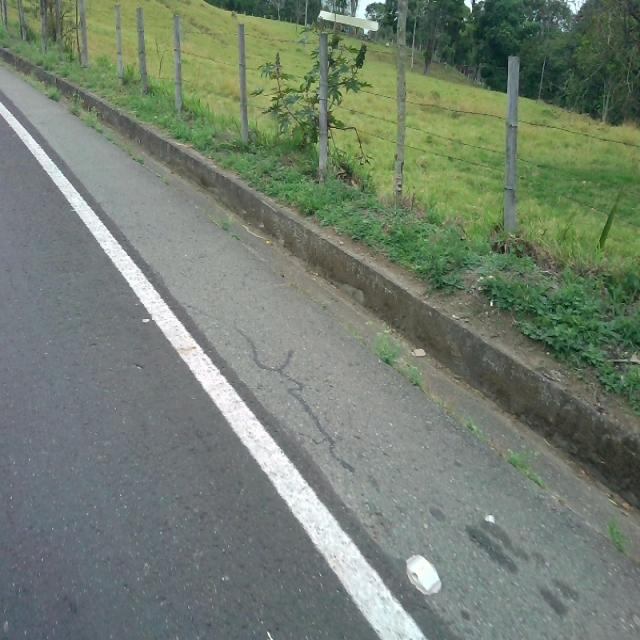DITCH: (1, 47, 638, 638), (1, 49, 638, 638)
